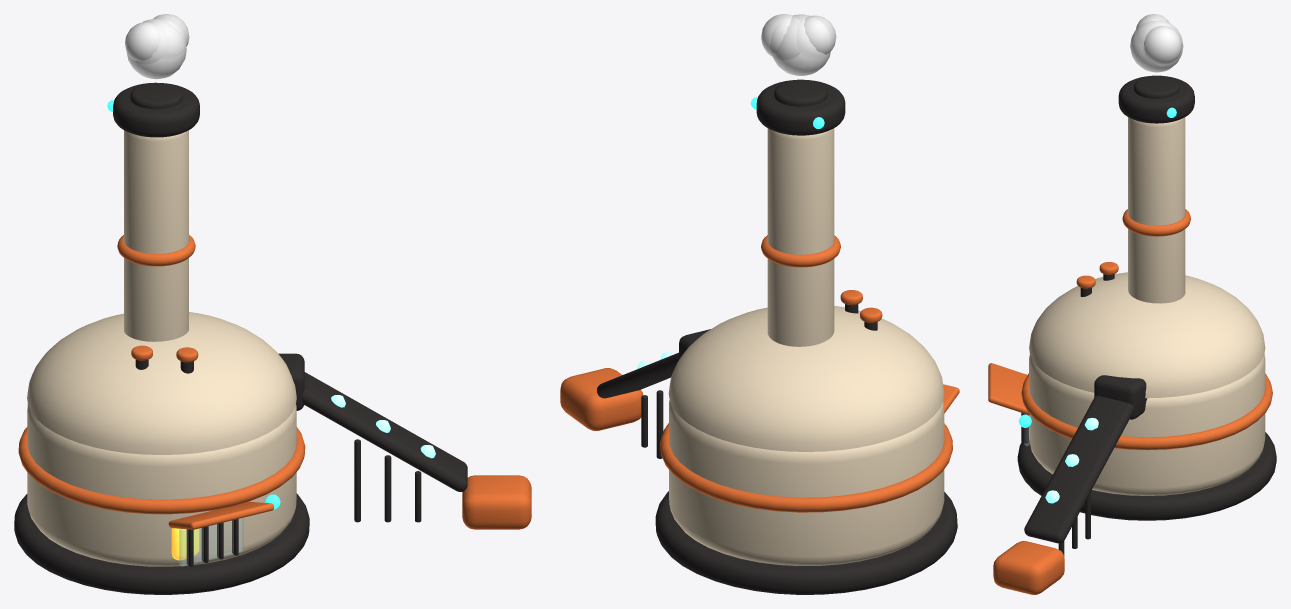
File: furnace.glb
The picture shows the model from 3 angles, left to right: view 1: azimuth 30°, elevation 25°; view 2: azimuth 150°, elevation 25°; view 3: azimuth 270°, elevation 25°; orthographic projection. The views are drawn at different scales.
Visible parts, largest first — view 1: Sphere, Cylinder.001, Cylinder.002, Cylinder, Cube.007, Torus, Cube.009, Cylinder.003, Sphere.004, Cube.001, Cube.006, Cylinder.004 (+4 smaller); view 2: Sphere, Cylinder.001, Cylinder.002, Cylinder, Torus, Cube.009, Cylinder.003, Sphere.004, Cube.007, Cylinder.004, Torus.001, Sphere.006 (+1 smaller); view 3: Sphere, Cylinder.001, Cylinder.002, Cube.007, Cylinder, Torus, Cube.009, Cylinder.003, Cube.006, Cube.008, Sphere.005, Sphere.004 (+2 smaller).
Boxes of the visible parts, box(x1,y1,x2,y2) form: Sphere: box(27, 312, 296, 454); Cylinder.001: box(27, 404, 296, 566); Cylinder.002: box(124, 130, 188, 341); Cylinder: box(14, 493, 309, 594); Cube.007: box(302, 372, 467, 491); Torus: box(18, 427, 305, 514); Cube.009: box(462, 475, 531, 529); Cylinder.003: box(113, 82, 199, 137); Sphere.004: box(127, 18, 186, 79); Cube.001: box(179, 517, 243, 566); Cube.006: box(168, 501, 273, 529); Cylinder.004: box(130, 82, 182, 109); Sphere: box(668, 306, 944, 451); Cylinder.001: box(669, 400, 944, 565); Cylinder.002: box(767, 128, 834, 346); Cylinder: box(655, 491, 957, 594); Torus: box(660, 423, 952, 512); Cube.009: box(560, 368, 643, 430); Cylinder.003: box(756, 79, 845, 135); Sphere.004: box(772, 14, 830, 75); Cube.007: box(597, 352, 678, 398); Cylinder.004: box(774, 79, 827, 106); Torus.001: box(761, 235, 840, 267); Sphere.006: box(804, 15, 836, 54); Sphere: box(1029, 272, 1265, 398); Cylinder.001: box(1029, 354, 1265, 495); Cylinder.002: box(1128, 117, 1185, 303); Cube.007: box(1024, 395, 1134, 543); Cylinder: box(1017, 432, 1276, 520); Torus: box(1021, 373, 1272, 450); Cube.009: box(993, 541, 1064, 594); Cylinder.003: box(1118, 75, 1194, 123); Cube.006: box(988, 363, 1029, 414); Cube.008: box(1094, 375, 1147, 419); Sphere.005: box(1144, 25, 1181, 65); Sphere.004: box(1130, 20, 1183, 72).
Bounding box in the file's own units: 2.29 × 2.6 × 1.51.
